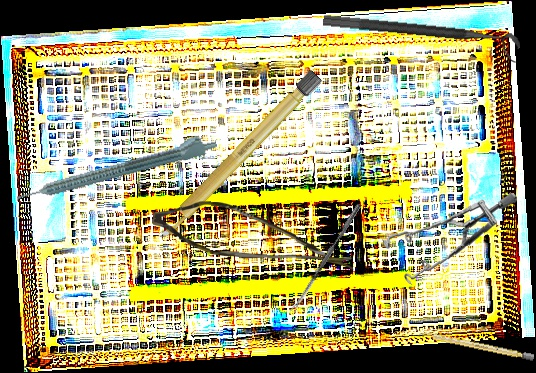Fixation Ring: (321, 13, 521, 64)
Handpiece: (12, 128, 219, 206)
Micro Scissor: (150, 199, 357, 271)
Scalpel Handle: (153, 68, 323, 244), (418, 329, 535, 362)
Speculum: (378, 184, 518, 292)
Surgical Spoon: (289, 202, 362, 314)
